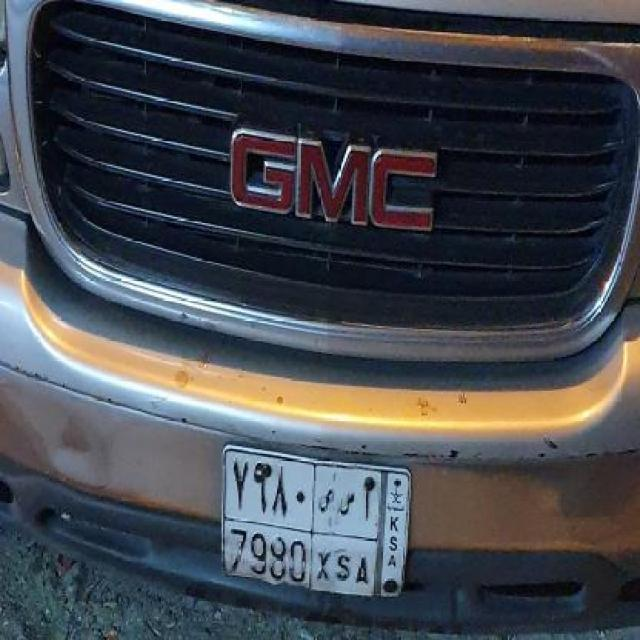license_plate: (220, 442, 412, 604)
